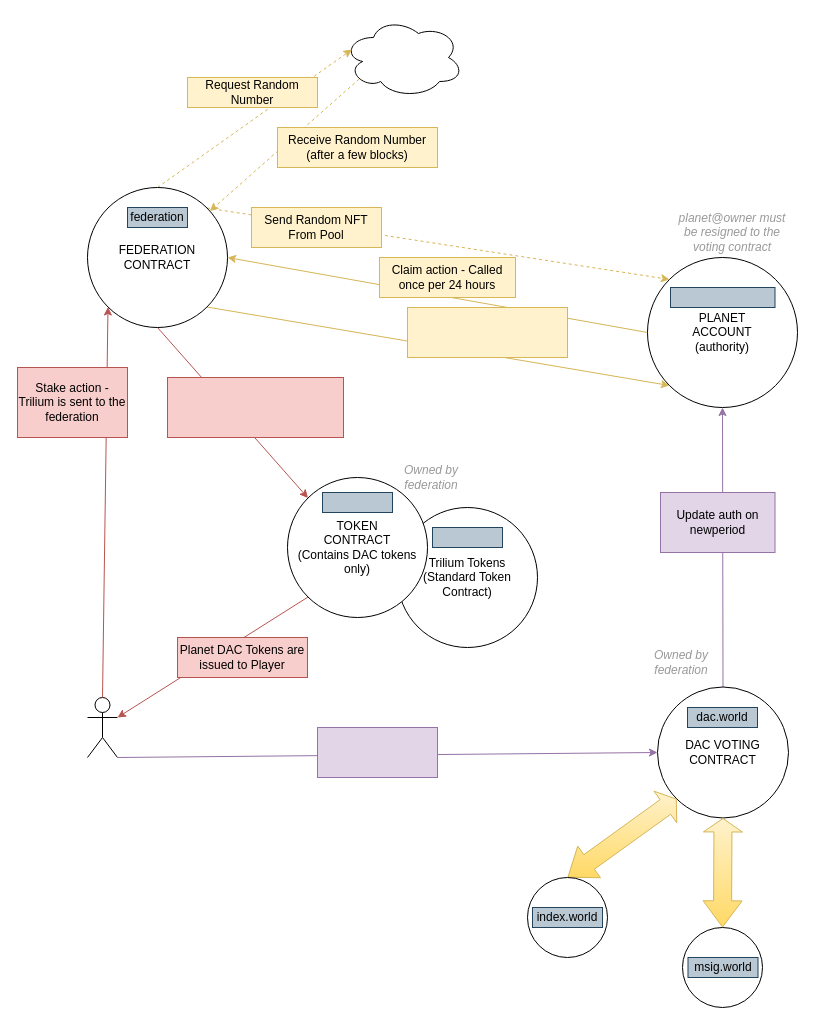
Some shapes in this 815 by 1025 pixel diagram are drawn without their labels. The centre of each missing label's shape, as x and y in pixels:
"alien.worlds" belongs at pixel 467 537.
"Federation Contract has permission to issue DAC tokens for each planet" belongs at pixel 255 407.
"planetname .world" belongs at pixel 722 297.
"Player" belongs at pixel 102 727.
"Send Trilium from reserves relative to total stake" belongs at pixel 487 332.
"token.world" belongs at pixel 357 502.
"Vote Action" belongs at pixel 377 752.
"WAX RNG" belongs at pixel 403 57.
